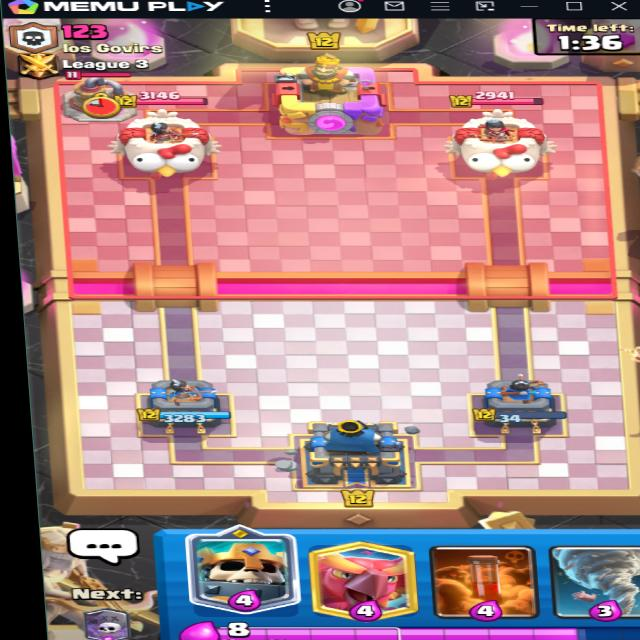elixir-collector: (65, 75, 142, 122)
